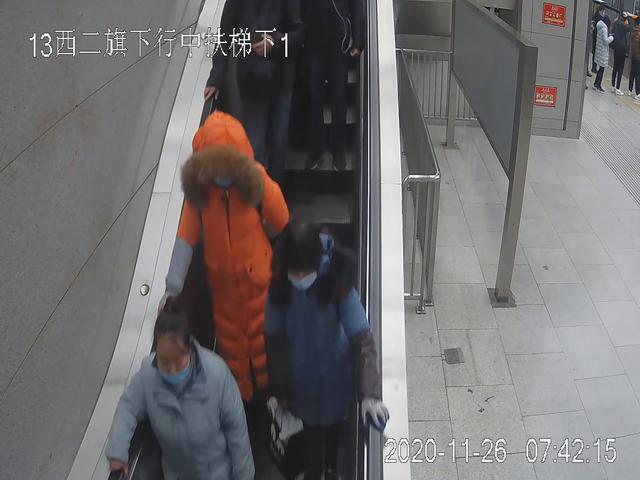person: (169, 112, 291, 440), (271, 221, 387, 480), (109, 309, 256, 480), (613, 13, 630, 94), (592, 13, 608, 92)
